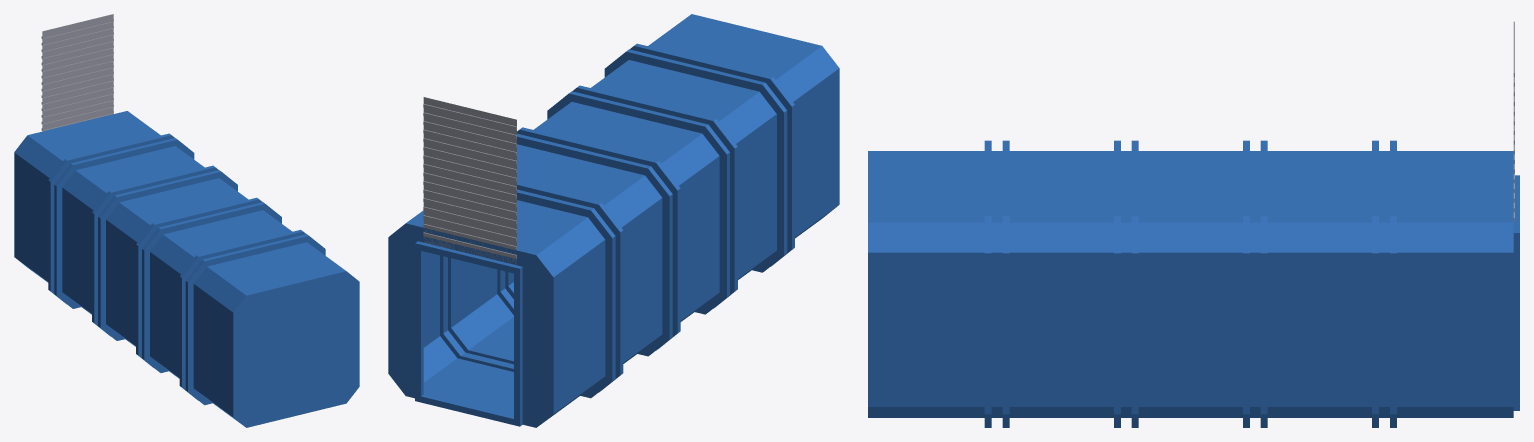
Rendered from euipamientoBoxSimple.glb.
3 renders of one model, left to right at view 1: azimuth 30°, elevation 25°; view 2: azimuth 150°, elevation 25°; view 3: azimuth 270°, elevation 25°, orthographic. The views are drawn at different scales.
Visible parts, largest first — view 1: Cube.001, Cube.002; view 2: Cube.001, Cube.002; view 3: Cube.001.
Part boxes in pixels (x1=…): Cube.001: x1=14, y1=111, x2=359, y2=427; Cube.002: x1=41, y1=14, x2=113, y2=131; Cube.001: x1=388, y1=14, x2=839, y2=427; Cube.002: x1=423, y1=97, x2=516, y2=264; Cube.001: x1=868, y1=140, x2=1519, y2=427.
Size of the model in its own units: 2.17 by 3.6 by 6.06.
